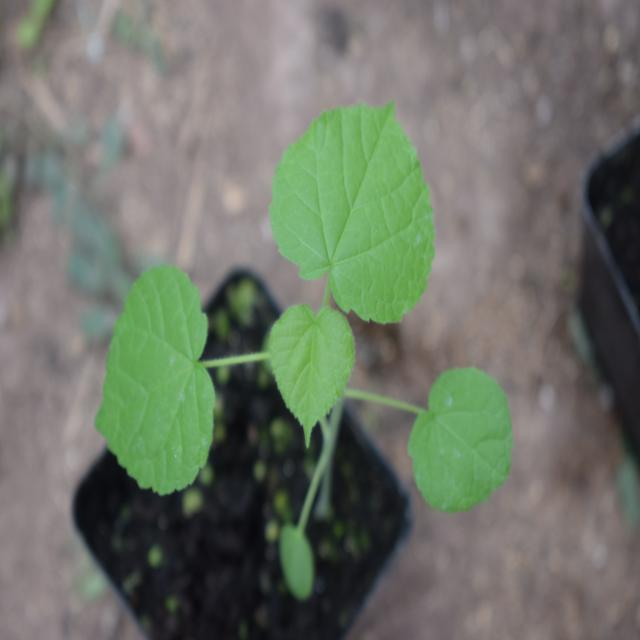abutilon theophrasti: (91, 116, 536, 530)
